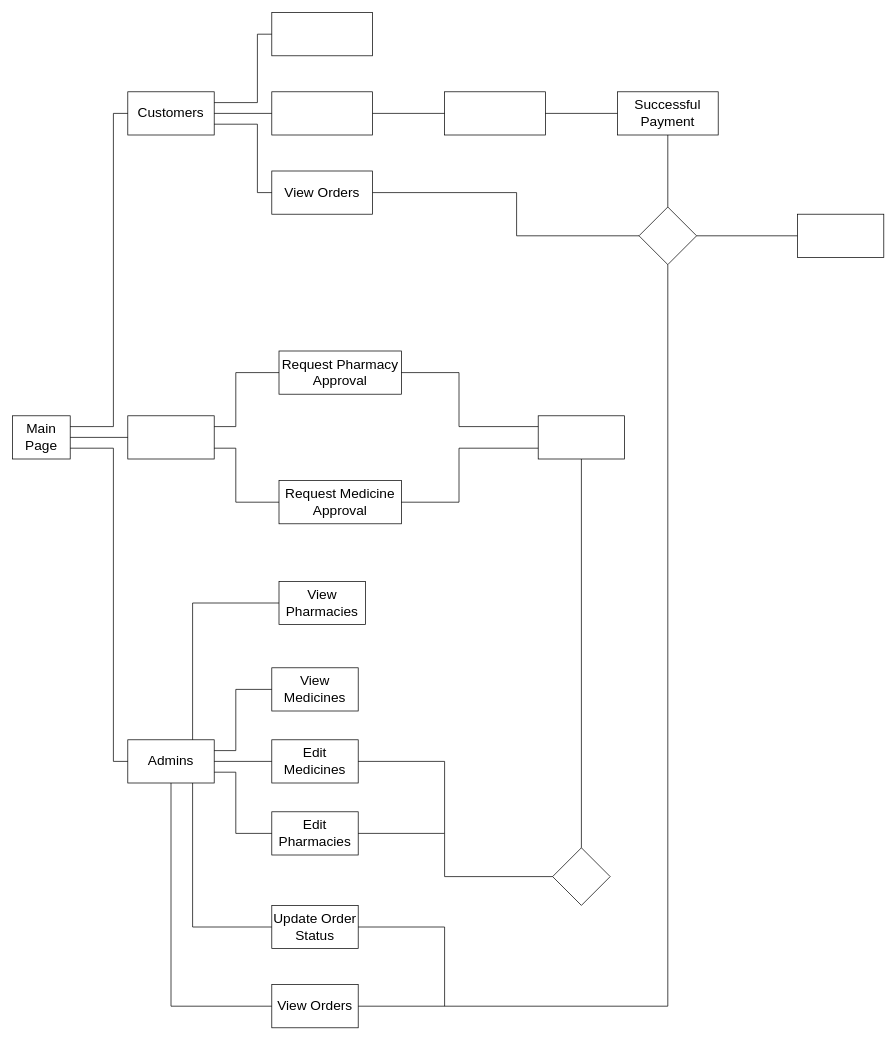
The diagram is 896 pixels wide and 1040 high, and some of its shapes have lost their labels. The shapes that lost their labels are listed below. From the top down, each one's centre as x and y in pixels, then its label:
(322,34): View Approved Pharmacies
(322,113): View Approved Medicines
(494,113): Add to Cart
(840,235): Update Orders
(170,437): Pharmacy Owners
(581,437): Enter/Edit Information
